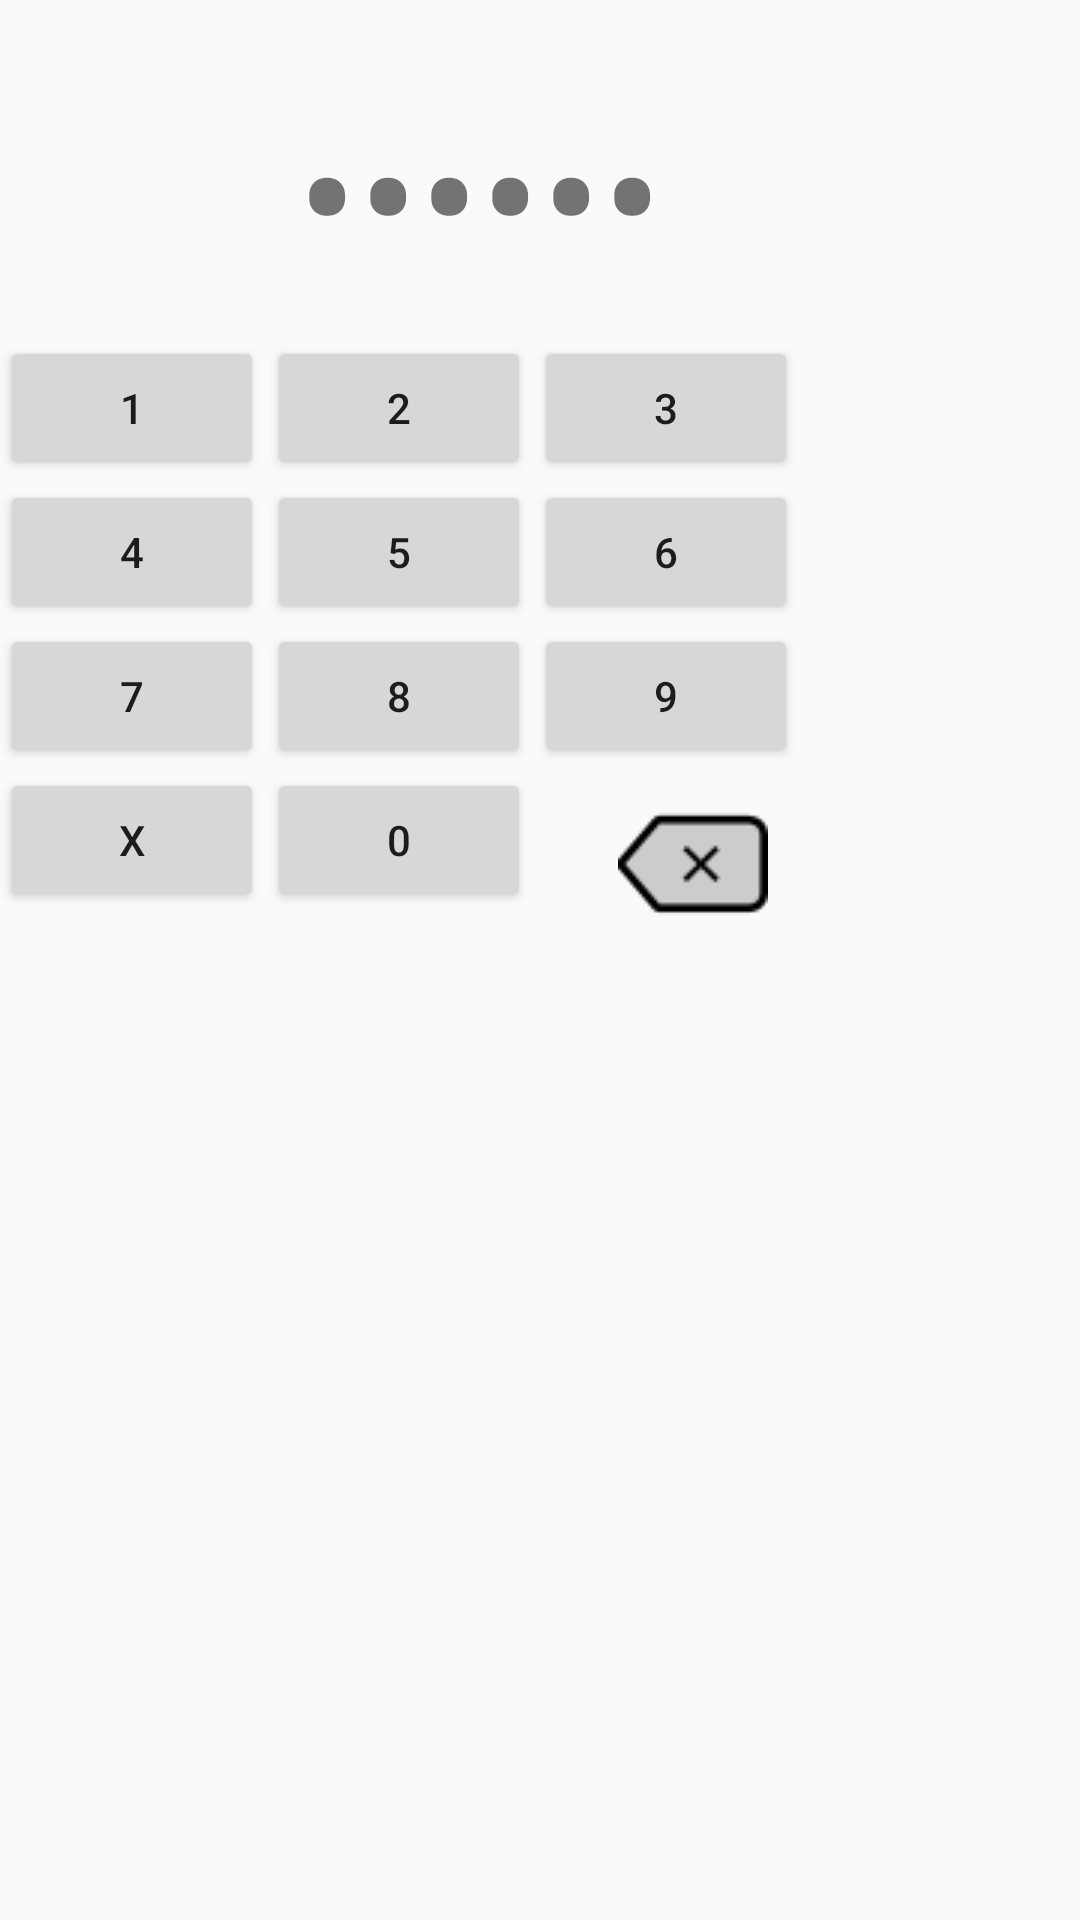

Point at icon controls on the screen. Image size 1080*1920, points as point (x, y).
delete: point (693, 863)
